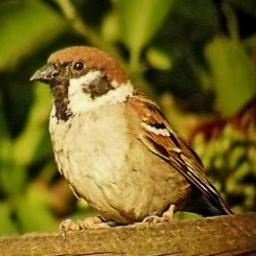Sparrow: (26, 43, 233, 239)
